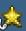star: (0, 1, 26, 31)
